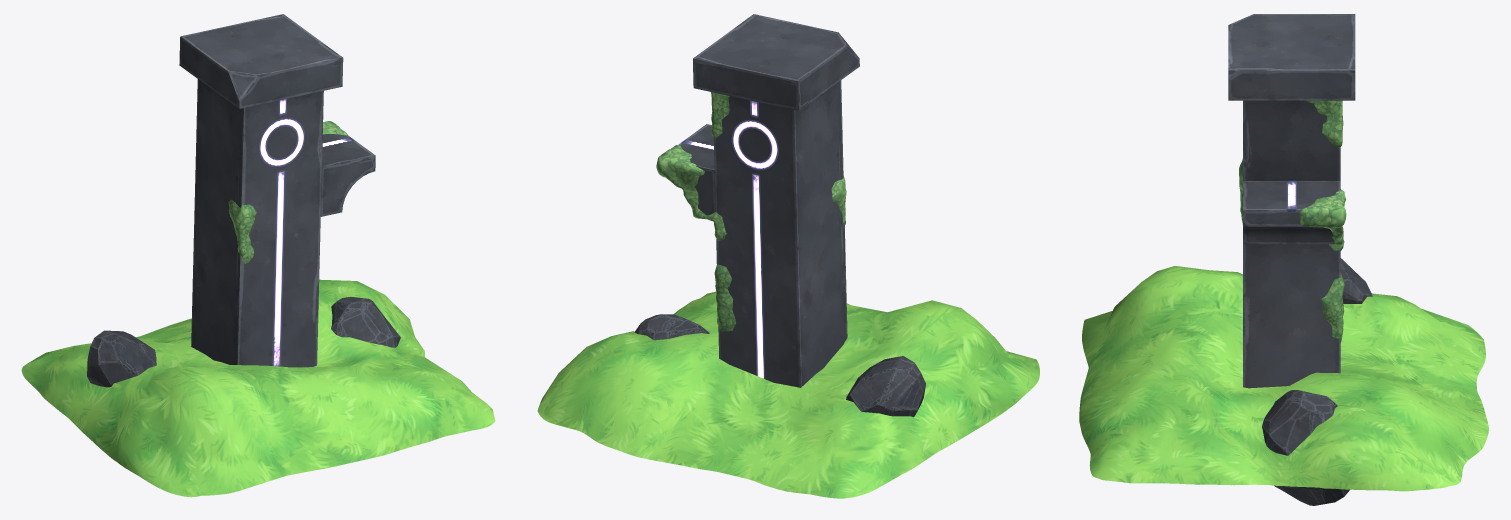
Rendered from Rune_6.fbx.
3 renders of one model, left to right at view 1: azimuth 30°, elevation 25°; view 2: azimuth 150°, elevation 25°; view 3: azimuth 270°, elevation 25°, orthographic. The views are drawn at different scales.
Parts seen in each view (by area): view 1: rune 6 grass low, rune 6 low, rock 2 low.002, rock 3 low.002, rune 6 moss; view 2: rune 6 grass low, rune 6 low, rune 6 moss, rock 2 low.002, rock 3 low.002; view 3: rune 6 grass low, rune 6 low, rock 3 low.002, rune 6 moss, rock 2 low.002.
Part boxes in pixels (bbox=[...]): rune 6 grass low: bbox=[21, 279, 495, 497]; rune 6 low: bbox=[179, 14, 375, 367]; rock 2 low.002: bbox=[87, 330, 156, 387]; rock 3 low.002: bbox=[331, 296, 400, 347]; rune 6 moss: bbox=[228, 121, 347, 263]; rune 6 grass low: bbox=[537, 291, 1039, 498]; rune 6 low: bbox=[678, 14, 859, 387]; rune 6 moss: bbox=[656, 92, 846, 331]; rock 2 low.002: bbox=[846, 356, 925, 417]; rock 3 low.002: bbox=[634, 314, 709, 340]; rune 6 grass low: bbox=[1079, 266, 1488, 491]; rune 6 low: bbox=[1228, 14, 1355, 388]; rock 3 low.002: bbox=[1262, 390, 1349, 505]; rune 6 moss: bbox=[1239, 100, 1346, 342]; rock 2 low.002: bbox=[1340, 258, 1372, 303].
Bounding box in the file's own units: 399 × 412 × 384.
Materials: 5 (5 with a texture image).
